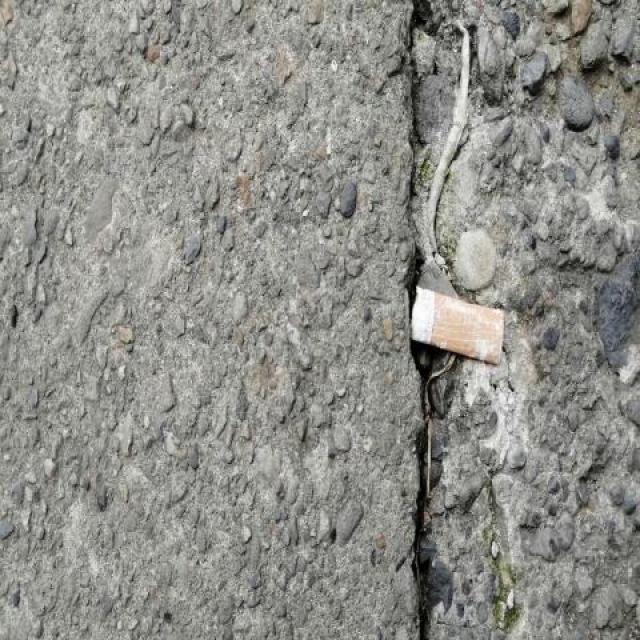non-organic waste: (403, 278, 509, 370)
